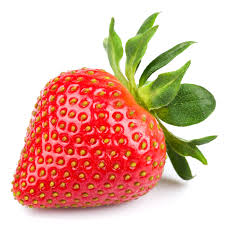strawberry: (16, 13, 206, 210)
